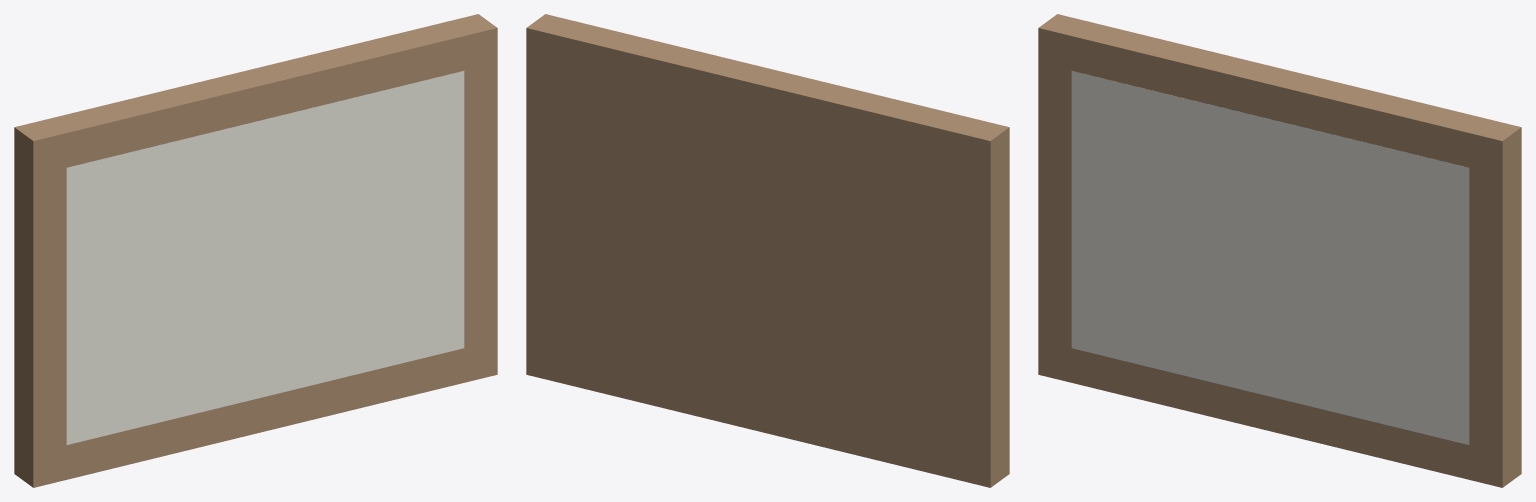
File: genealogy_frame_blank.glb
3 views of the same model, side by side, from view 1: azimuth 30°, elevation 25°; view 2: azimuth 150°, elevation 25°; view 3: azimuth 330°, elevation 25° (orthographic).
Parts seen in each view (by area): view 1: blank, frame; view 2: frame; view 3: blank, frame.
Part boxes in pixels (x1,y1,x2,y2): blank: (66,71,464,444); frame: (14,14,497,487); frame: (526,14,1009,487); blank: (1071,71,1469,444); frame: (1038,14,1521,487).
Bounding box in the file's own units: 1.4 × 1 × 0.0998.
